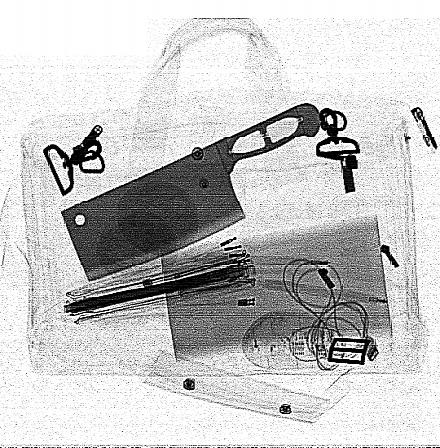Knife: (59, 101, 323, 284)
